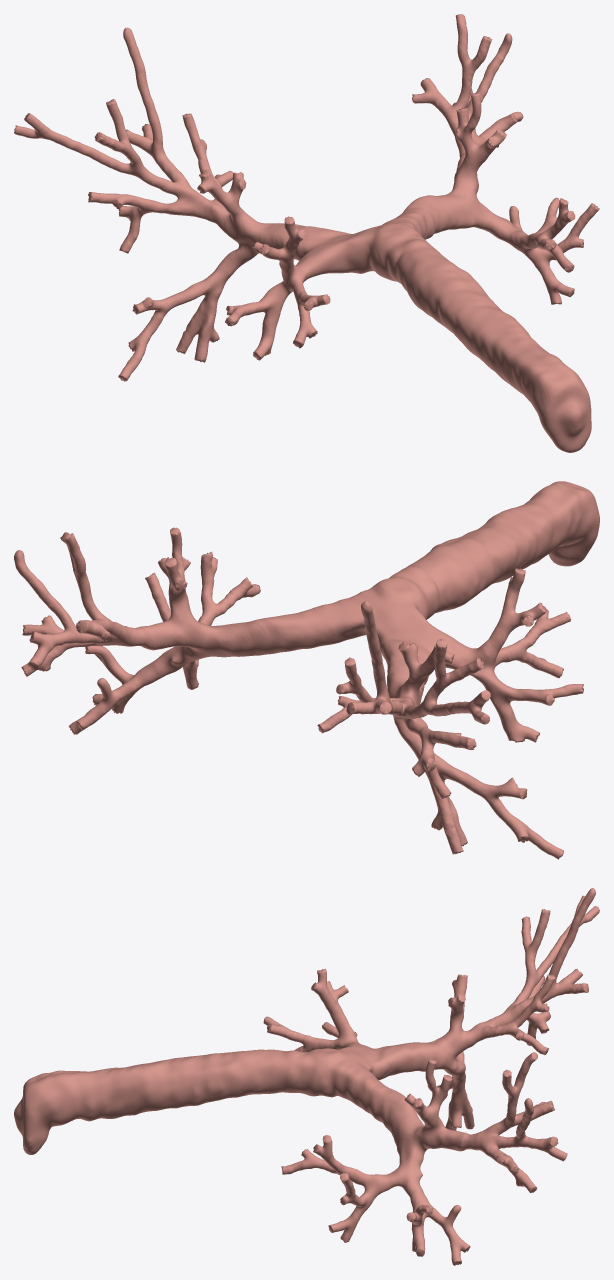
Rendered from lumen.glb.
3 renders of one model, top to bottom at view 1: azimuth 30°, elevation 25°; view 2: azimuth 150°, elevation 25°; view 3: azimuth 270°, elevation 25°, orthographic. The views are drawn at different scales.
Visible parts, largest first — view 1: PatientLpsLumen; view 2: PatientLpsLumen; view 3: PatientLpsLumen.
Part boxes in pixels (x1=…): PatientLpsLumen: x1=14, y1=14, x2=599, y2=452; PatientLpsLumen: x1=14, y1=481, x2=599, y2=859; PatientLpsLumen: x1=14, y1=888, x2=599, y2=1265.
Size of the model in its own units: 177 by 101 by 215.
